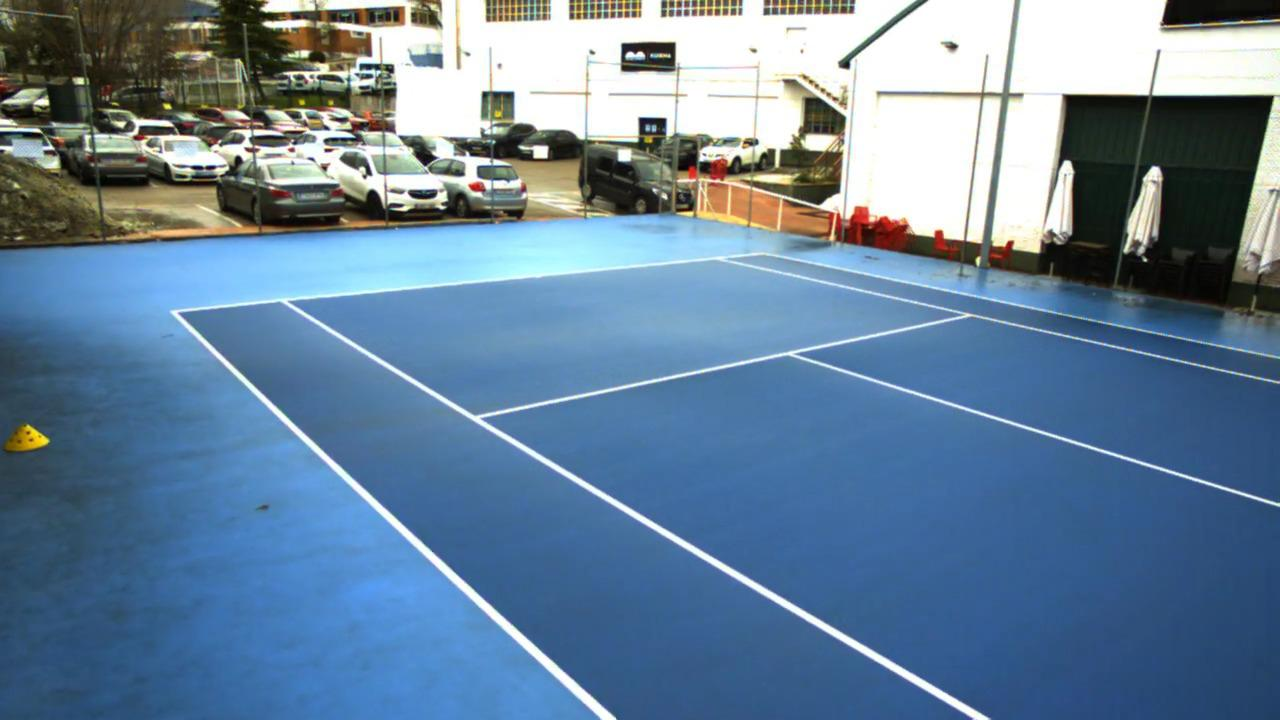cancha_tenis: (284, 257, 1272, 720)
point_f1: (267, 290, 305, 317)
point_f2: (708, 247, 734, 271)
point_fc1: (529, 268, 548, 288)
point_i1: (462, 405, 498, 431)
point_i2: (947, 304, 979, 329)
point_ic1: (778, 339, 813, 370)
